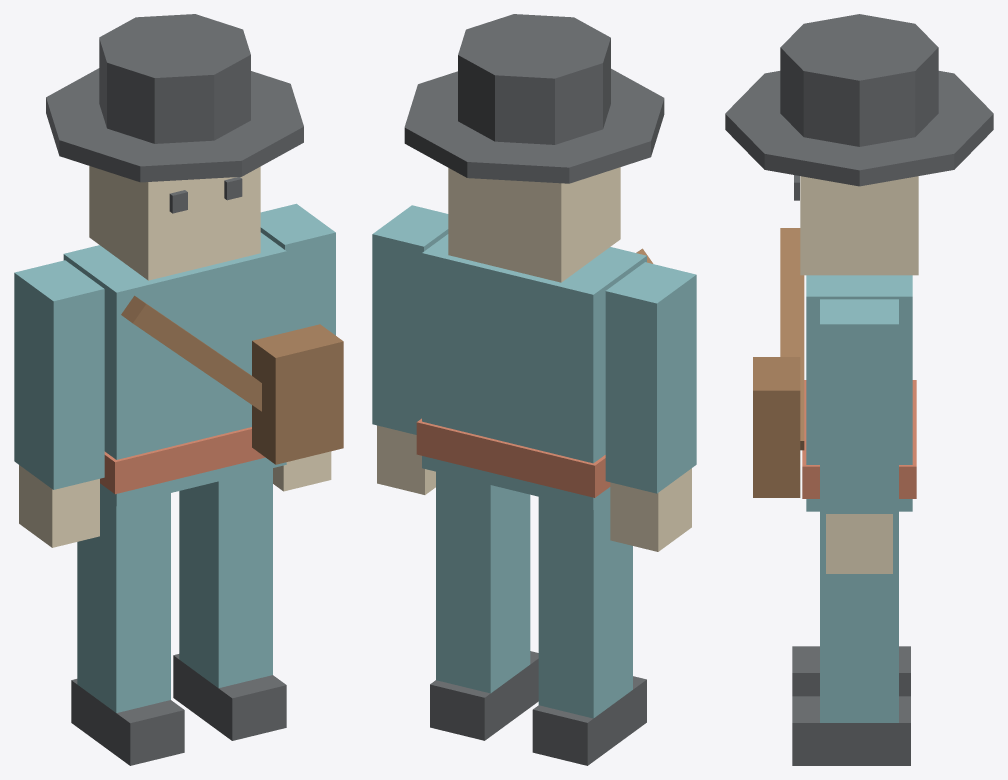
File: pessoa_courier.glb
3 views of the same model, side by side, from view 1: azimuth 30°, elevation 25°; view 2: azimuth 150°, elevation 25°; view 3: azimuth 270°, elevation 25° (orthographic).
Visible parts, largest first — view 1: frontier-post-courier; view 2: frontier-post-courier; view 3: frontier-post-courier.
Part boxes in pixels (bbox=[...]): frontier-post-courier: bbox=[14, 14, 343, 765]; frontier-post-courier: bbox=[372, 14, 696, 765]; frontier-post-courier: bbox=[725, 14, 993, 765].
Size of the model in its own units: 0.83 by 1.9 by 0.68.
